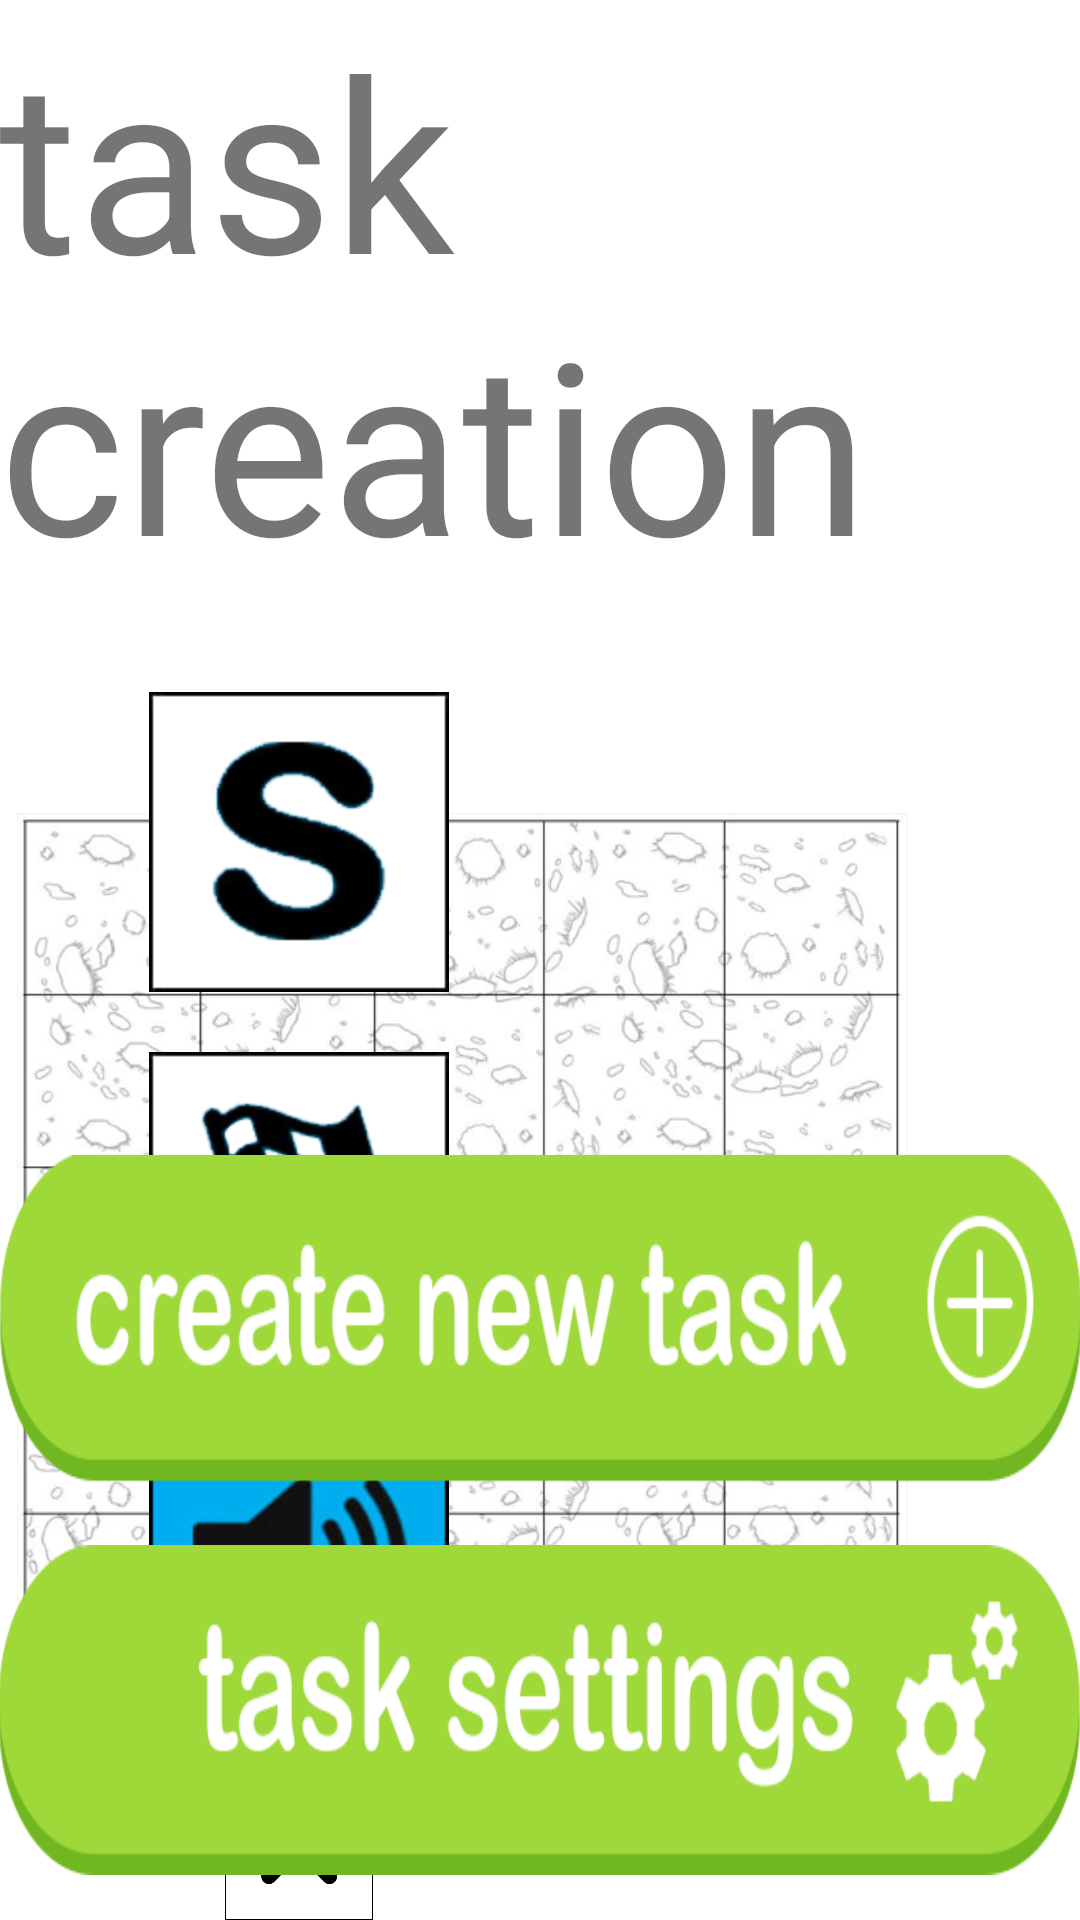

Locate icon controls on the screen. Image size 1080x1920, boxes as BBox(x1, y1, x2, y2).
start square: BBox(212, 741, 386, 941)
